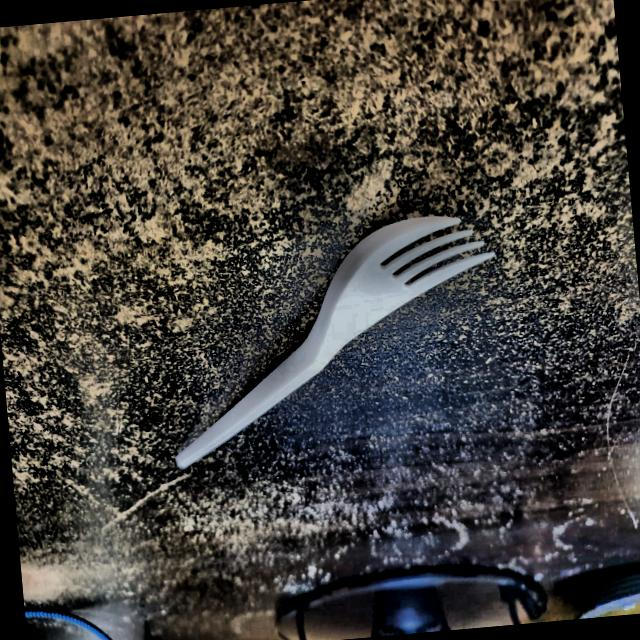plastic utensil: (150, 208, 512, 469)
